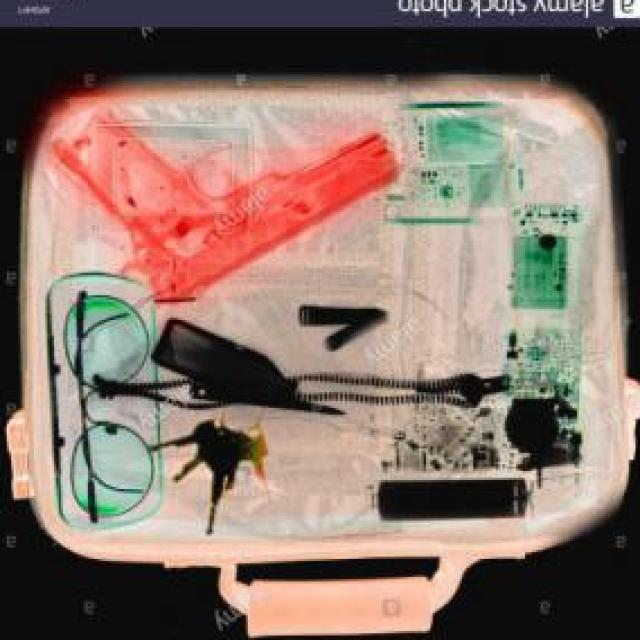pistol: (38, 112, 390, 308)
